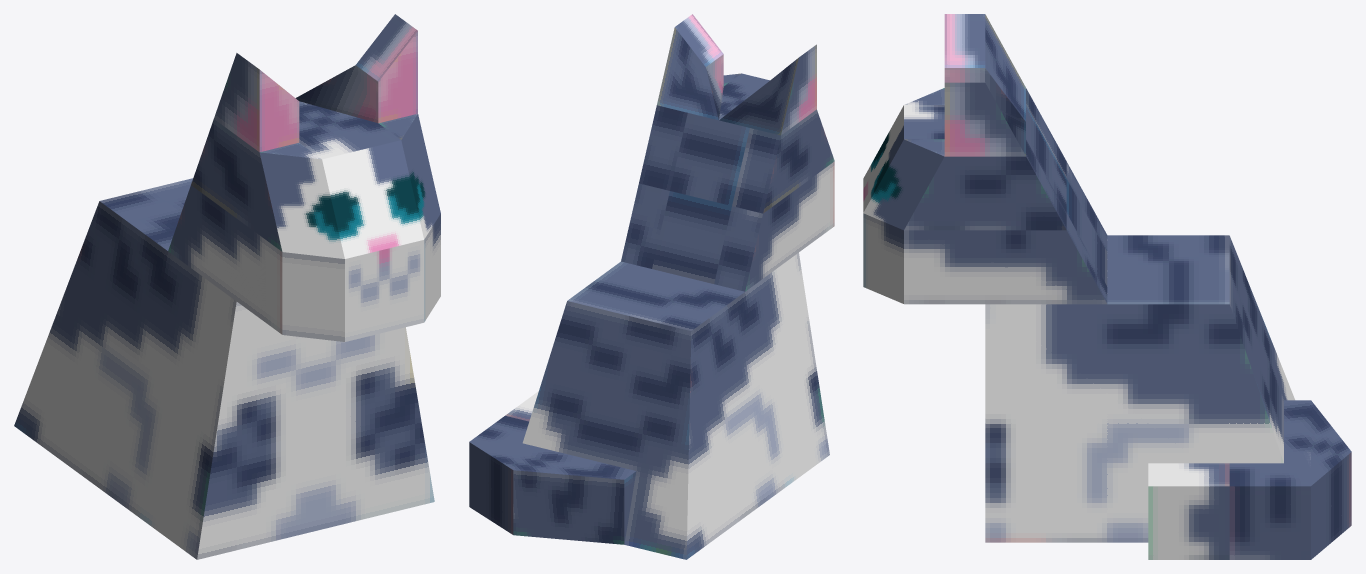
Rendered from low-poly-cat-f10a.glb.
3 renders of one model, left to right at view 1: azimuth 30°, elevation 25°; view 2: azimuth 150°, elevation 25°; view 3: azimuth 270°, elevation 25°, orthographic. The views are drawn at different scales.
Visible parts, largest first — view 1: body_1, head_5, ear_r_2, ear_r_6; view 2: body_1, head_5, tail1_0, ear_r_2, ear_r_6, tail2_3; view 3: body_1, head_5, tail2_3, tail3_4, tail1_0, ear_r_6, ear_r_2.
Boxes of the visible parts, left/top/right/bottom form: body_1: left=14, top=178, right=434, bottom=559; head_5: left=168, top=101, right=440, bottom=341; ear_r_2: left=295, top=14, right=417, bottom=123; ear_r_6: left=214, top=53, right=299, bottom=152; body_1: left=522, top=252, right=829, bottom=559; head_5: left=621, top=73, right=834, bottom=291; tail1_0: left=469, top=442, right=636, bottom=544; ear_r_2: left=657, top=14, right=723, bottom=120; ear_r_6: left=719, top=44, right=816, bottom=135; tail2_3: left=469, top=415, right=531, bottom=445; body_1: left=985, top=235, right=1294, bottom=542; head_5: left=863, top=88, right=1107, bottom=304; tail2_3: left=1229, top=452, right=1310, bottom=559; tail3_4: left=1148, top=463, right=1229, bottom=559; tail1_0: left=1284, top=400, right=1351, bottom=559; ear_r_6: left=944, top=14, right=1025, bottom=121; ear_r_2: left=944, top=82, right=1025, bottom=156.
Size of the model in its own units: 0.3702 by 0.6347 by 0.6347.
2 materials, 2 textured.
